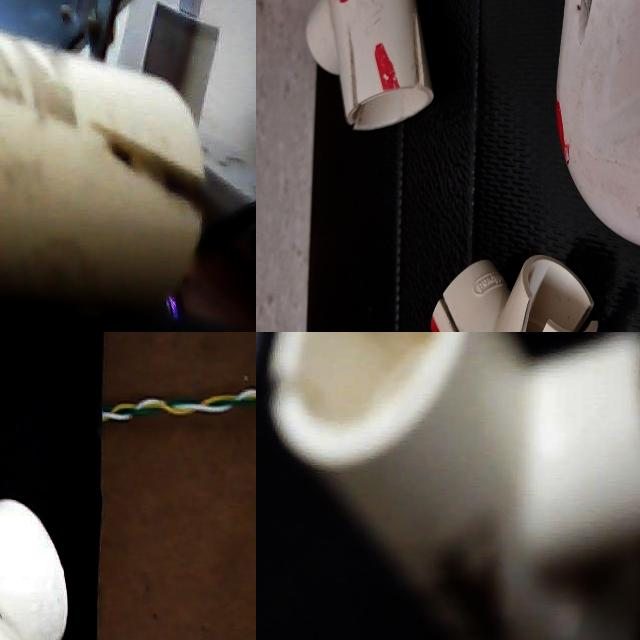Defective: (67, 95, 201, 243), (90, 125, 220, 231), (429, 526, 513, 640), (297, 332, 401, 367), (481, 175, 554, 222), (317, 276, 373, 332), (256, 98, 284, 144)
L Joint: (317, 156, 553, 332), (534, 22, 640, 240)
T Joint: (265, 332, 640, 640), (256, 0, 326, 233)
